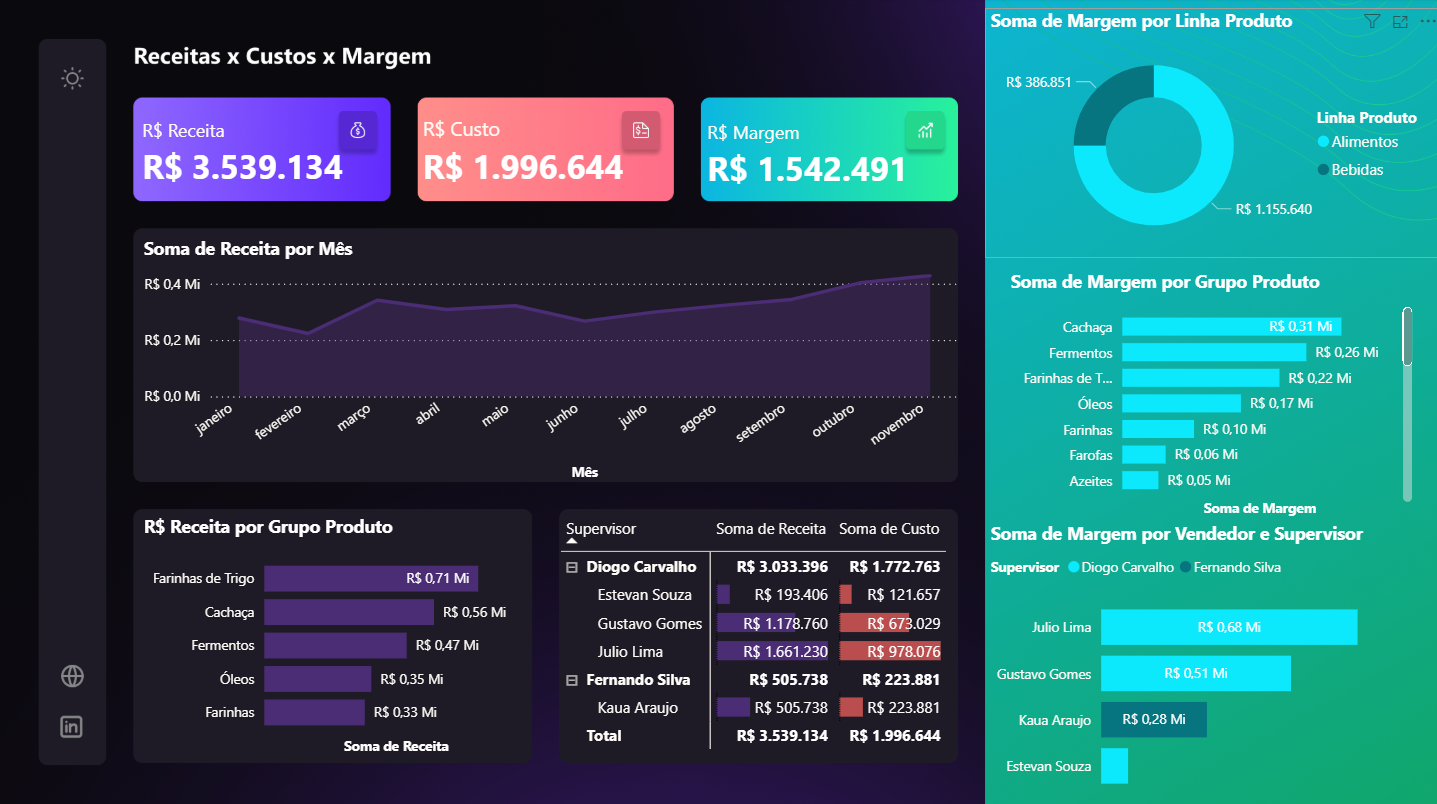

This screenshot's page, from the dashboard's own definition file:
{"tool":"powerbi","page":{"name":"Página 1","canvas":[1280,720],"ordinal":0},"visuals":[{"type":"pivotTable","fields":{"Rows":["Vendas.Supervisor","Vendas.Vendedor"],"Values":["Vendas.Receita","Vendas.Custo"]},"box":[493.6,452.1,368.1,223.4],"z":0},{"type":"cardVisual","fields":{"Data":["Vendas.Receita"]},"box":[110.6,87.2,552.1,164.9],"z":1000},{"type":"barChart","title":"R$ Receita por Grupo Produto","fields":{"Category":["Produto.Grupo Produto"],"Y":["Vendas.Receita"]},"box":[124.5,457.4,351.1,218.1],"z":2000},{"type":"cardVisual","fields":{"Data":["Vendas.Custo"]},"box":[347.9,59.6,285.1,151.1],"z":3000},{"type":"areaChart","fields":{"Category":["Vendas.Data.Variation.Hierarquia de datas.Ano","Vendas.Data.Variation.Hierarquia de datas.Mês","Vendas.Data.Variation.Hierarquia de datas.Dia"],"Y":["Vendas.Receita"]},"box":[124.5,210.6,731.9,221.3],"z":4000},{"type":"cardVisual","fields":{"Data":["Vendas.Margem"]},"box":[611.7,41.5,290.4,193.6],"z":5000},{"type":"donutChart","fields":{"Category":["Produto.Linha Produto"],"Y":["Vendas.Margem"]},"box":[875.5,8.5,404.3,222.3],"z":6000},{"type":"barChart","fields":{"Category":["Produto.Grupo Produto"],"Y":["Vendas.Margem"]},"box":[892.6,240.4,366,224.5],"z":7000},{"type":"barChart","fields":{"Y":["Vendas.Margem"],"Category":["Vendas.Vendedor"],"Series":["Vendas.Supervisor"]},"box":[875.3,463.9,374.2,255.7],"z":8000}]}

Visuals, with their boxes on the page's 1280x720 design canvas (x1, y1, x2, y2). These are canvas units, not pixel positions in the 1437x804 screenshot, which may show the page scaled, cropped or inside an application window:
pivotTable - Vendas.Supervisor x Vendas.Vendedor: Rect(494, 452, 862, 676)
cardVisual - Vendas.Receita: Rect(111, 87, 663, 252)
"R$ Receita por Grupo Produto" barChart: Rect(124, 457, 476, 676)
cardVisual - Vendas.Custo: Rect(348, 60, 633, 211)
areaChart - Vendas.Data.Variation.Hierarquia de datas.Ano x Vendas.Data.Variation.Hierarquia de datas.Mês: Rect(124, 211, 856, 432)
cardVisual - Vendas.Margem: Rect(612, 42, 902, 235)
donutChart - Produto.Linha Produto x Vendas.Margem: Rect(876, 8, 1280, 231)
barChart - Produto.Grupo Produto x Vendas.Margem: Rect(893, 240, 1259, 465)
barChart - Vendas.Margem x Vendas.Vendedor: Rect(875, 464, 1250, 720)
